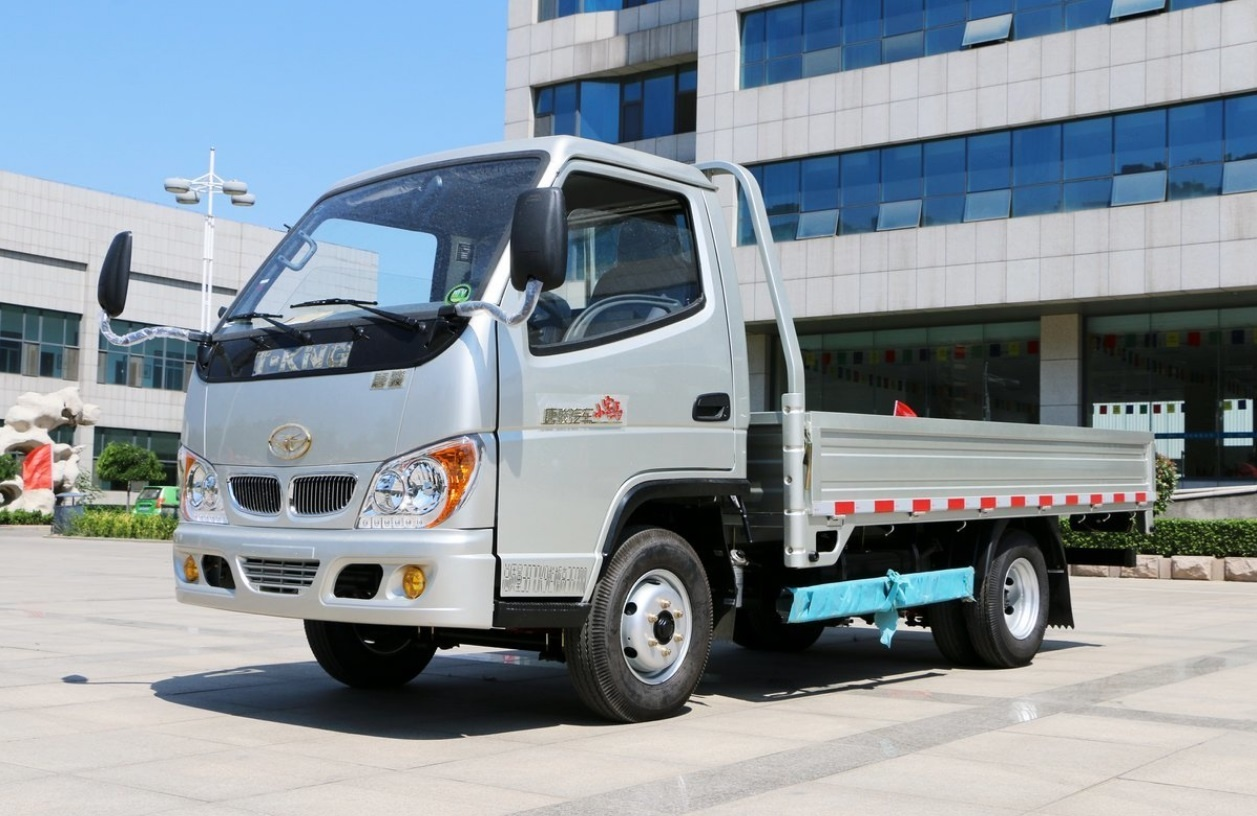truck: (151, 126, 1163, 714)
